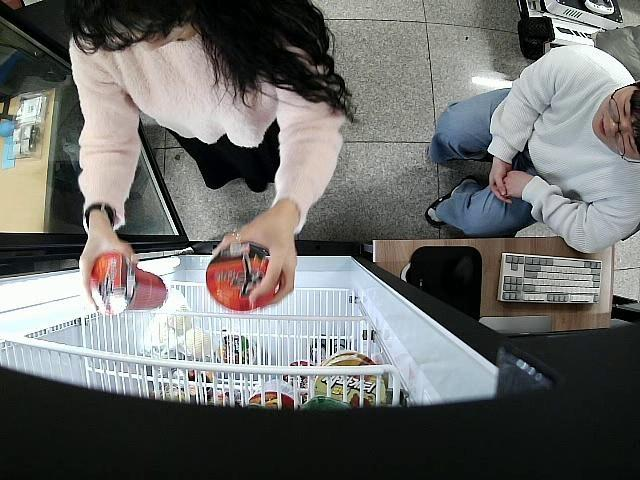02_shinRamen_S: (206, 242, 281, 312), (86, 252, 168, 316)
